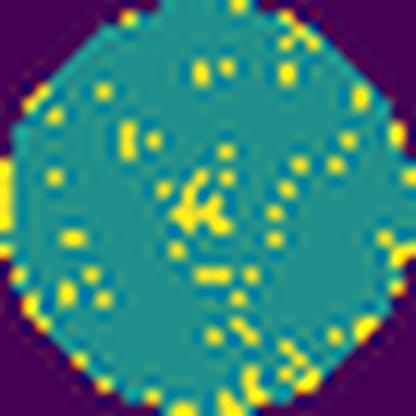Center: (164, 161, 238, 243)
